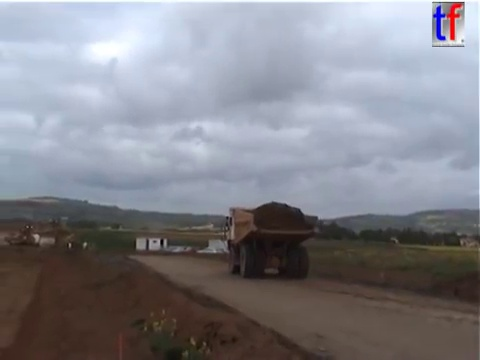excavator: (2, 222, 43, 249)
truck: (222, 204, 323, 281)
